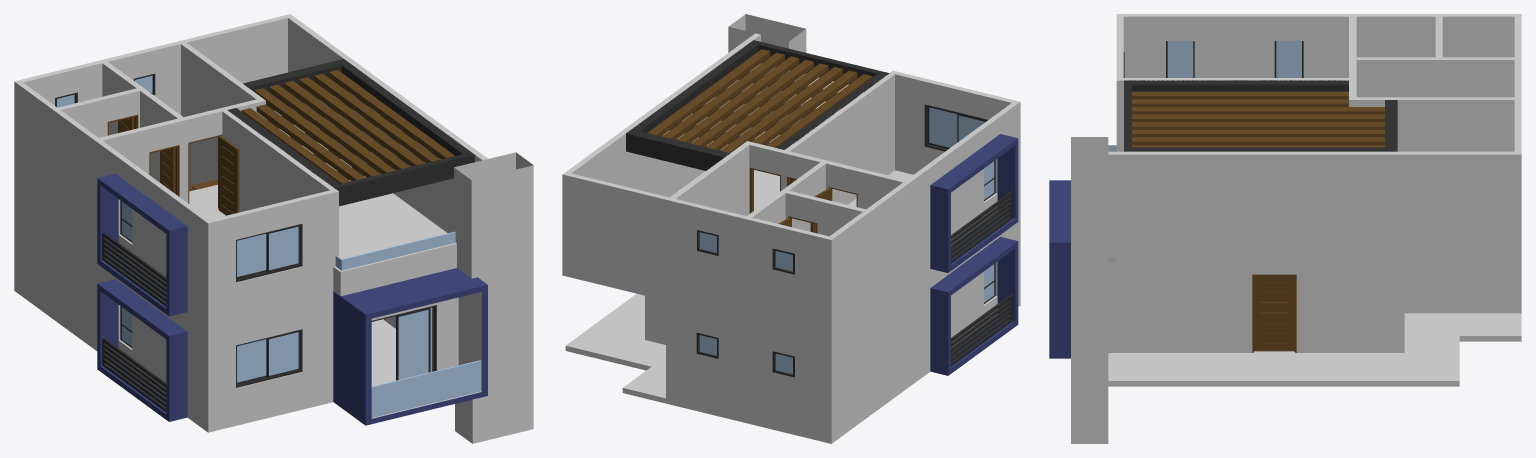
The model's file is interior.glb.
3 views of the same model, side by side, from view 1: azimuth 30°, elevation 25°; view 2: azimuth 150°, elevation 25°; view 3: azimuth 270°, elevation 25° (orthographic). The views are drawn at different scales.
Parts seen in each view (by area): view 1: piso2 - paredes, piso1 - paredes, piso2 - cosa, piso2 - balconMadera, piso2 - suelo, piso2 - hierro, piso2 - recuadro, piso1 - recuadro, piso1 - suelo, piso1 - vidrio, piso2 - paredextra, Cube.016 (+9 smaller); view 2: piso2 - paredes, piso1 - paredes, piso2 - balconMadera, piso1 - suelo, piso2 - hierro, piso2 - recuadro, piso1 - recuadro, piso2 - suelo, piso2 - cosa, Cube.033, Cube.007, Cube.010 - piso2 (+5 smaller); view 3: piso2 - paredes, piso1 - paredes, piso1 - suelo, piso2 - balconMadera, piso2 - cosa, piso2 - hierro, piso2 - suelo, Cube.024, Cube.003 - piso2, Cube.004 - piso2, Cube.023.
Part boxes in pixels (bbox=[...]): piso2 - paredes: bbox=[14, 14, 487, 321]; piso1 - paredes: bbox=[14, 154, 487, 427]; piso2 - cosa: bbox=[454, 152, 533, 443]; piso2 - balconMadera: bbox=[241, 70, 454, 183]; piso2 - suelo: bbox=[14, 125, 487, 326]; piso2 - hierro: bbox=[227, 59, 474, 206]; piso2 - recuadro: bbox=[97, 173, 187, 316]; piso1 - recuadro: bbox=[97, 279, 187, 421]; piso1 - suelo: bbox=[14, 285, 487, 432]; piso1 - vidrio: bbox=[371, 360, 481, 417]; piso2 - paredextra: bbox=[333, 243, 456, 296]; Cube.016: bbox=[396, 307, 430, 380]; piso2 - paredes: bbox=[562, 33, 1020, 335]; piso1 - paredes: bbox=[645, 203, 1020, 438]; piso2 - balconMadera: bbox=[648, 49, 872, 153]; piso1 - suelo: bbox=[565, 293, 1020, 443]; piso2 - hierro: bbox=[626, 40, 889, 170]; piso2 - recuadro: bbox=[930, 134, 1018, 272]; piso1 - recuadro: bbox=[930, 237, 1018, 375]; piso2 - suelo: bbox=[562, 131, 1020, 340]; piso2 - cosa: bbox=[728, 14, 806, 131]; Cube.033: bbox=[951, 294, 1013, 366]; Cube.007: bbox=[951, 191, 1013, 263]; Cube.010 - piso2: bbox=[927, 107, 957, 149]; piso2 - paredes: bbox=[1108, 14, 1521, 257]; piso1 - paredes: bbox=[1049, 248, 1521, 352]; piso1 - suelo: bbox=[1049, 313, 1521, 386]; piso2 - balconMadera: bbox=[1132, 91, 1384, 147]; piso2 - cosa: bbox=[1071, 137, 1108, 443]; piso2 - hierro: bbox=[1124, 80, 1397, 151]; piso2 - suelo: bbox=[1049, 180, 1521, 262]; Cube.024: bbox=[1254, 276, 1294, 351]; Cube.003 - piso2: bbox=[1274, 41, 1303, 77]; Cube.004 - piso2: bbox=[1166, 41, 1194, 77]; Cube.023: bbox=[1252, 274, 1296, 352].
Size of the model in its own units: 9.42 by 7.37 by 11.46.
